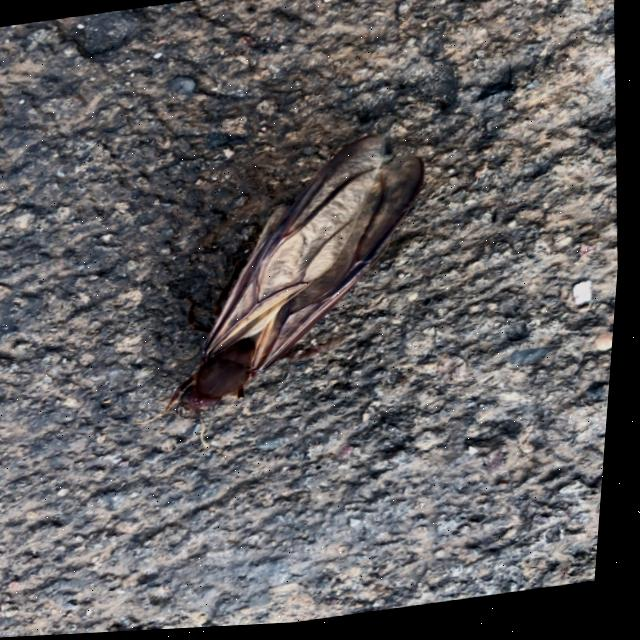Alive-Female-Alate: (114, 130, 452, 460)
